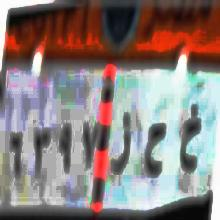3: (32, 123, 52, 187)
6: (6, 123, 26, 189)
7: (82, 120, 99, 170)
7aa: (140, 115, 169, 184)
9: (57, 121, 75, 179)
khaa: (180, 93, 203, 186)
zay: (110, 105, 134, 183)
